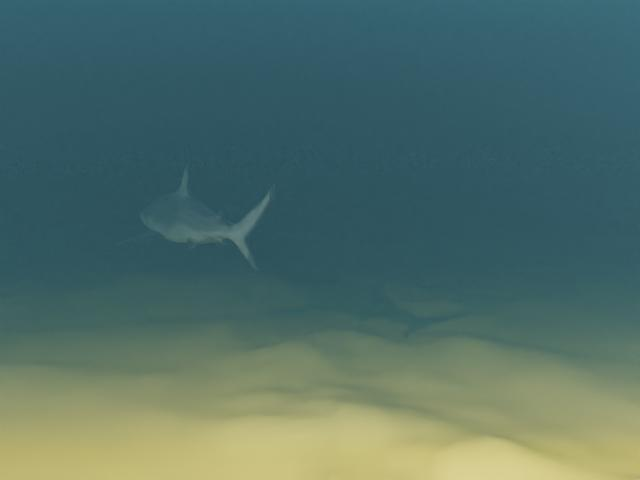Carribean Shark.001: (104, 163, 275, 270)
